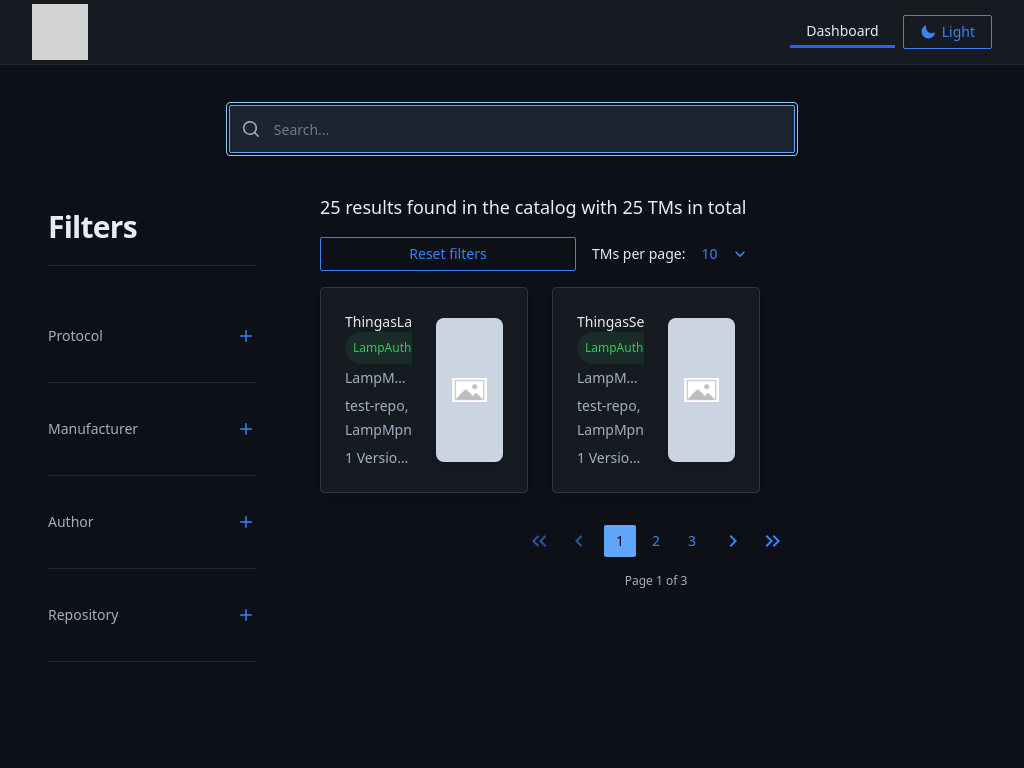
Scenario: Backend No Auth (SERVER_AVAILABLE, SERVER_URL; no token URL) › Resetting filters restores the initial backend page and total count
expect the heading "ThingasLamp" is shown: met, box x1=345 y1=312 x2=412 y2=332
expect the heading "ThingasSensor" is shown: met, box x1=577 y1=312 x2=644 y2=332
Click the button "Manufacturer".
click(152, 429)  # box x1=48 y1=407 x2=256 y2=451
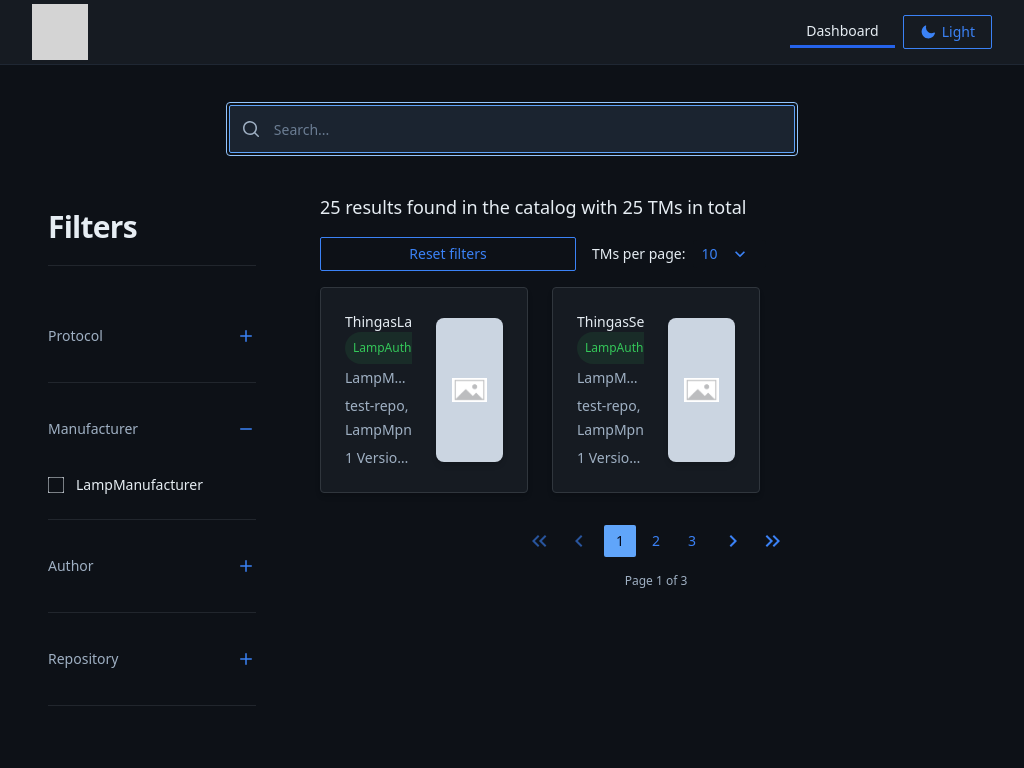
Click the checkbox labelled "LampManufacturer".
click(56, 485)  # box x1=48 y1=477 x2=64 y2=493
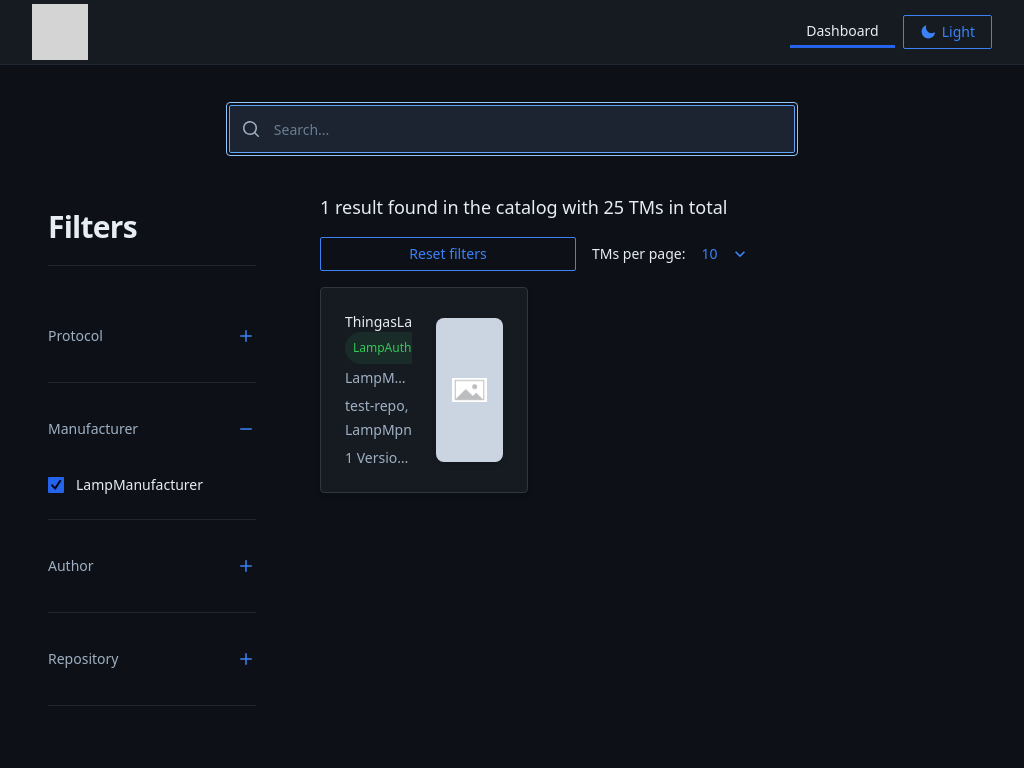
expect the link "ThingasSensor" is gone: met
expect the text "1 result found" is shown: met, box x1=320 y1=193 x2=728 y2=221
Click the button "Reset filters".
click(448, 254)  # box x1=320 y1=237 x2=576 y2=271
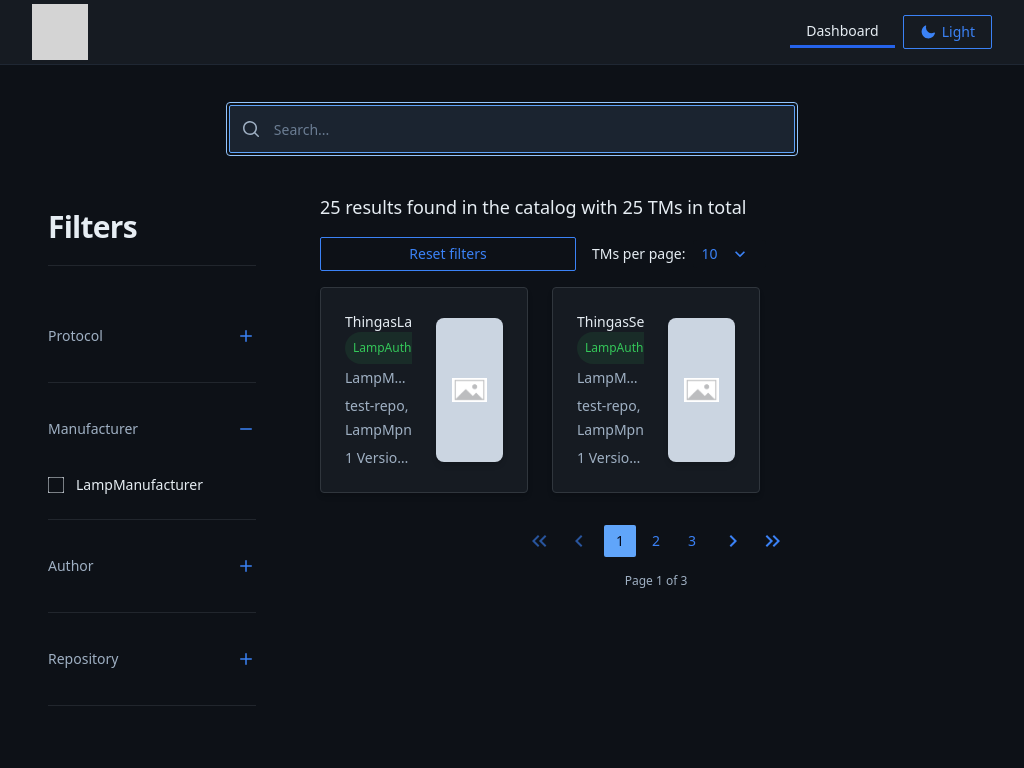
expect the checkbox labelled "LampManufacturer" is not checked: met, box x1=48 y1=477 x2=64 y2=493
expect the heading "ThingasSensor" is shown: met, box x1=577 y1=312 x2=644 y2=332
expect the text "25 results found" is shown: met, box x1=320 y1=193 x2=746 y2=221
